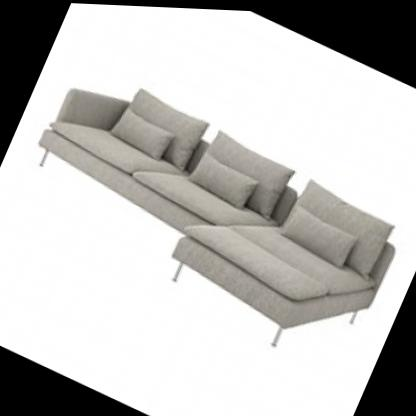Sofa: (0, 31, 416, 388)
